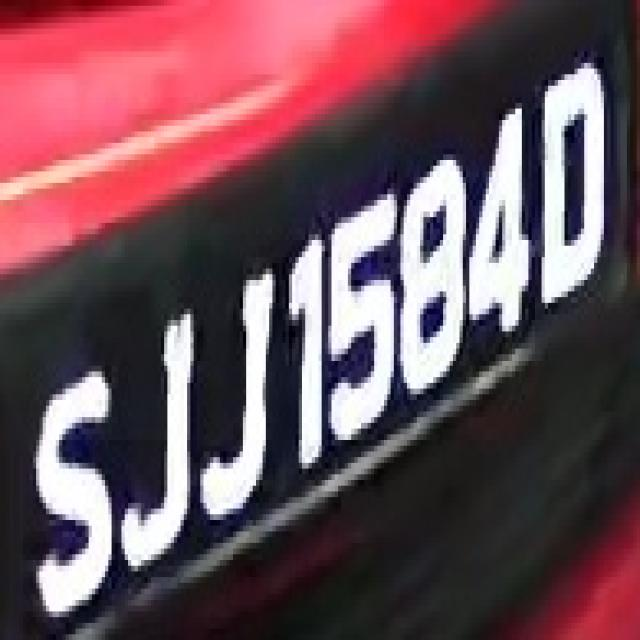1: (286, 217, 332, 480)
4: (462, 103, 542, 371)
5: (322, 194, 401, 446)
8: (394, 154, 469, 394)
D: (535, 40, 614, 314)
J: (115, 297, 200, 572), (197, 245, 279, 526)
S: (26, 354, 115, 623)
